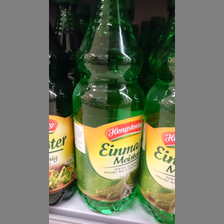vinegar: (75, 1, 143, 218), (143, 8, 178, 224)
